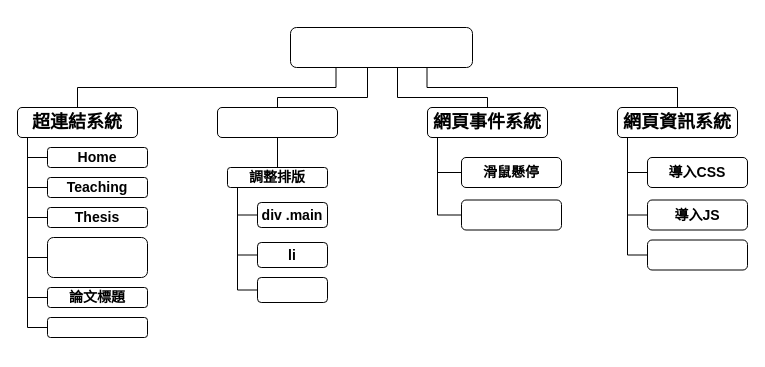
Some shapes in this 765 by 367 pixel diagram are drawn without their labels. Each missing label, with the centre of its shape:
Message board: (x=97, y=257)
Thesis page: (x=381, y=47)
TKU: (x=97, y=327)
ul li: (x=292, y=289)
滑鼠點擊: (x=511, y=214)
網頁資訊: (x=697, y=254)
響應式系統: (x=277, y=122)
